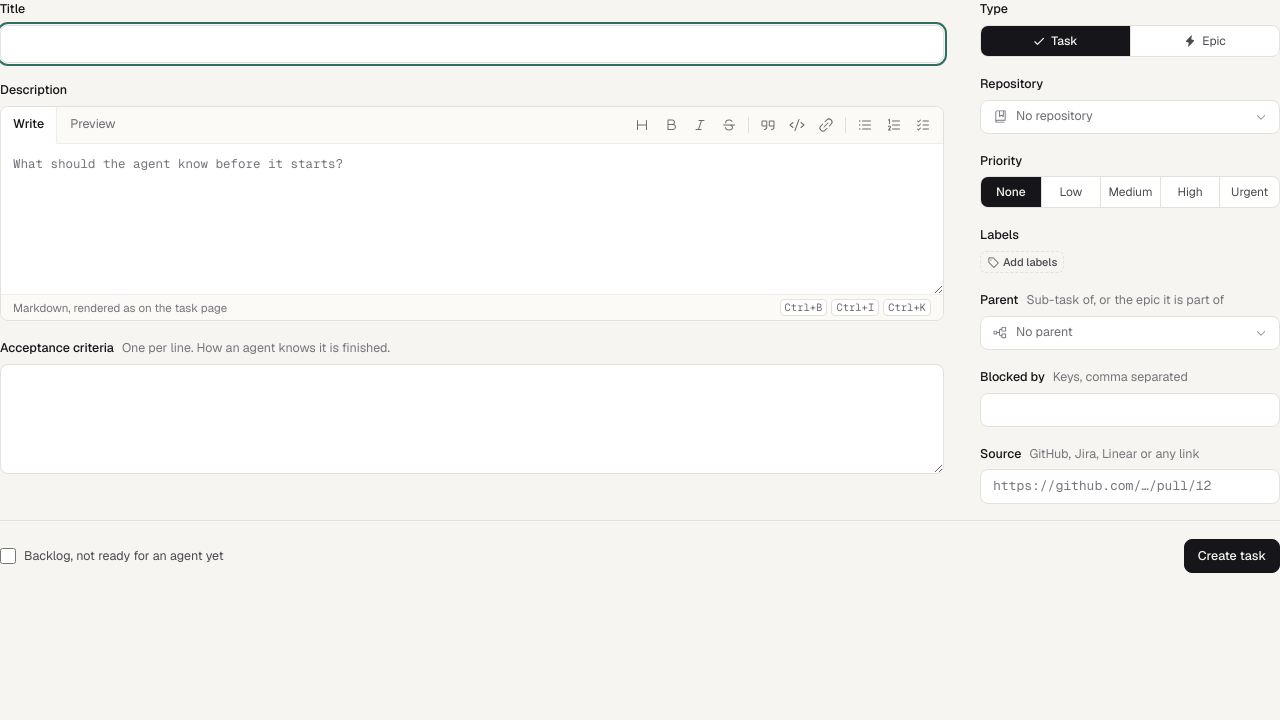
Test: NewTaskForm › picks the repository from the watched ones, or none
This screenshot has width=1280, height=720.
Click the button "No repository": x=1054, y=116 [980, 100, 1279, 134]
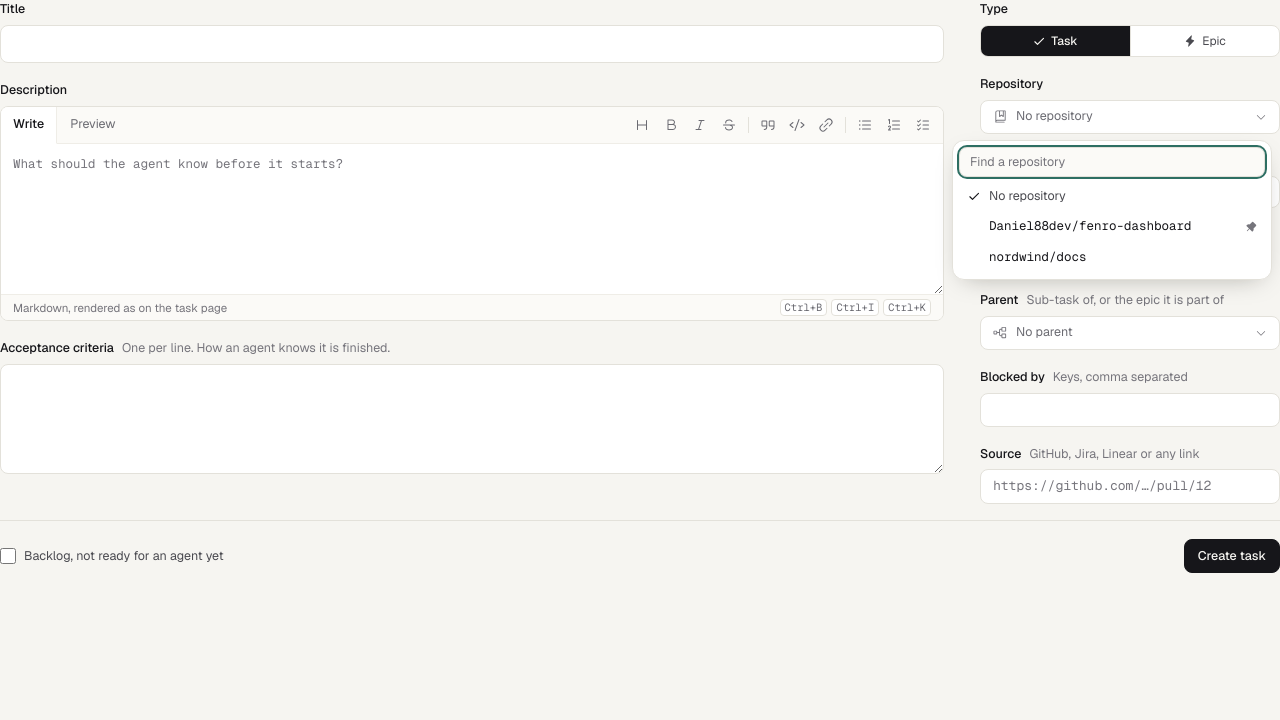
In the field labelled "Find a repository": x=1112, y=162 [959, 146, 1265, 176], type "docs"
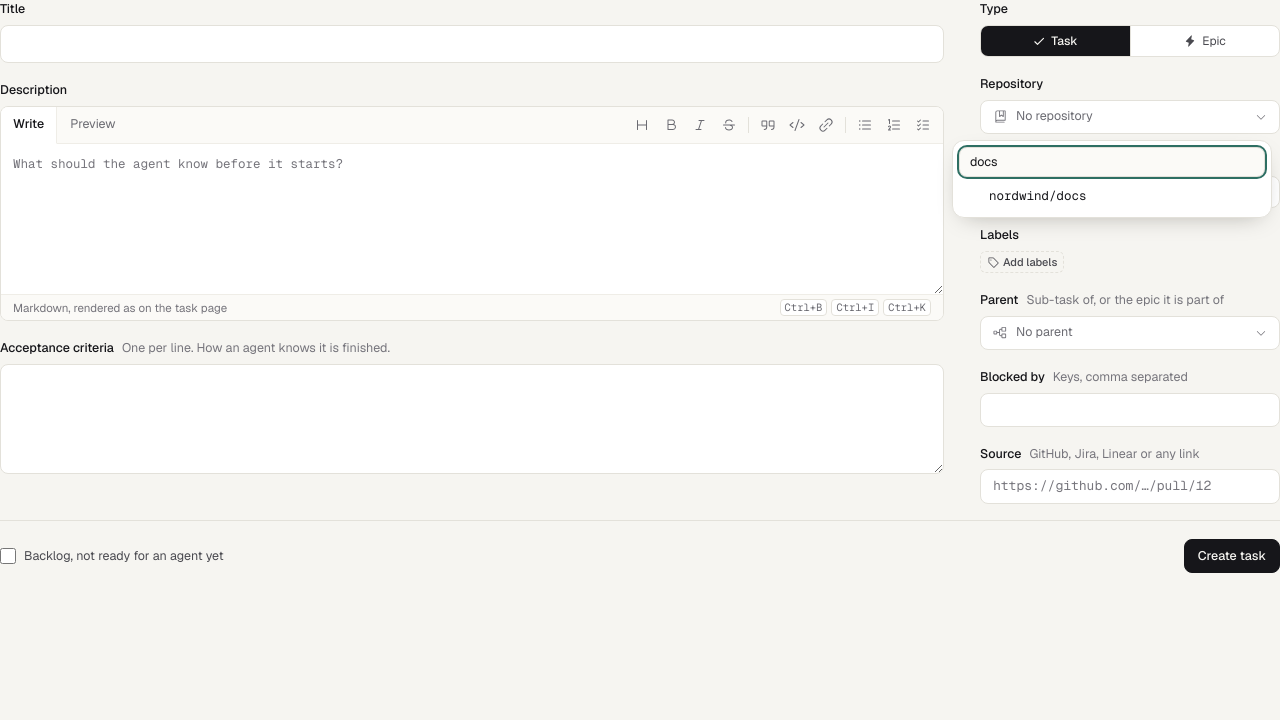
Press Enter in the field named "Find a repository", box [959, 146, 1265, 176]
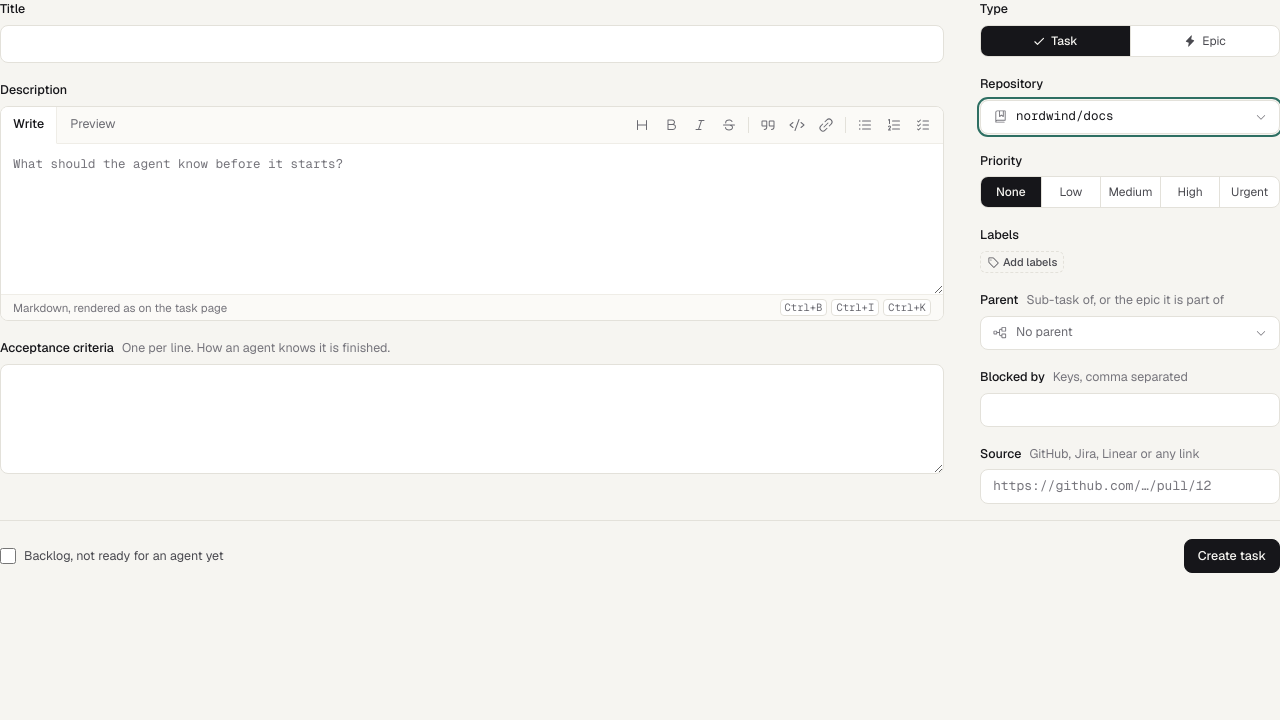
Now the button named "Repository" reads "nordwind/docs", box [980, 100, 1279, 134]
In the field labelled "Title": x=472, y=44 [0, 25, 944, 63], type "Retry webhooks"
Click the button "Create task": x=1232, y=556 [1184, 539, 1279, 573]
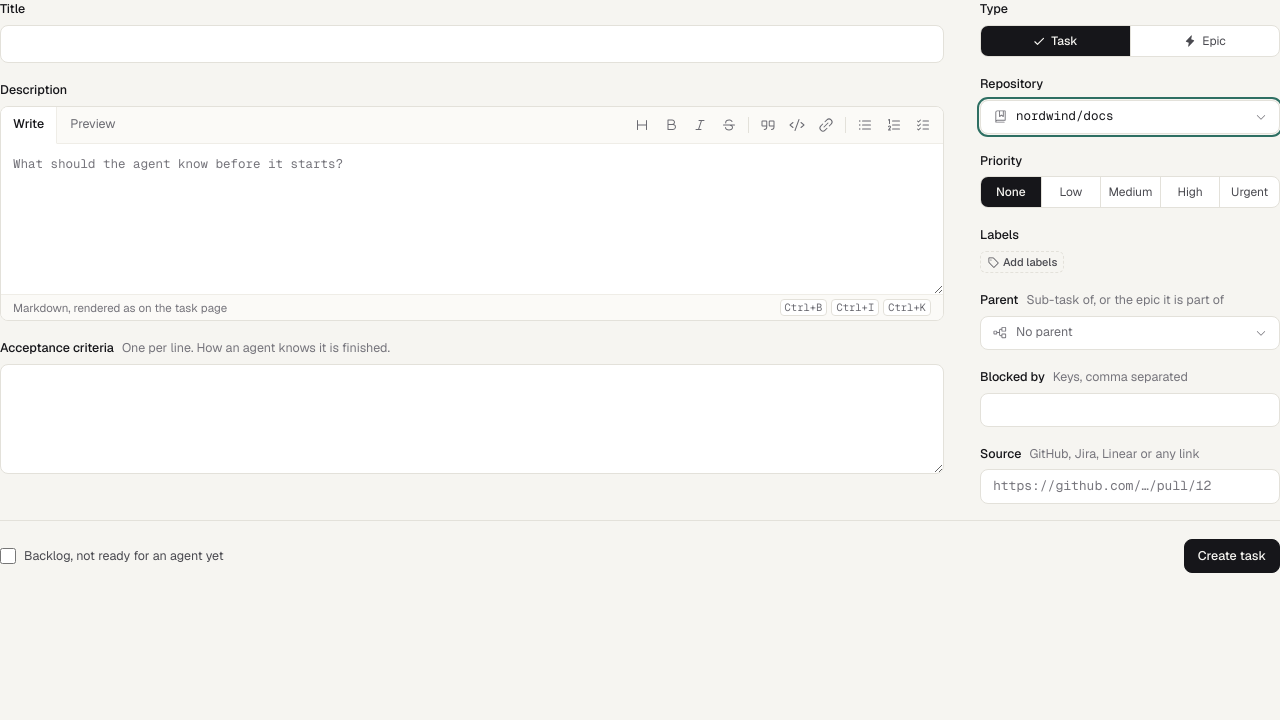
Now the text "nordwind/docs" is shown, box [1016, 107, 1114, 124]
Click the button named "Repository": x=1065, y=116 [980, 100, 1279, 134]
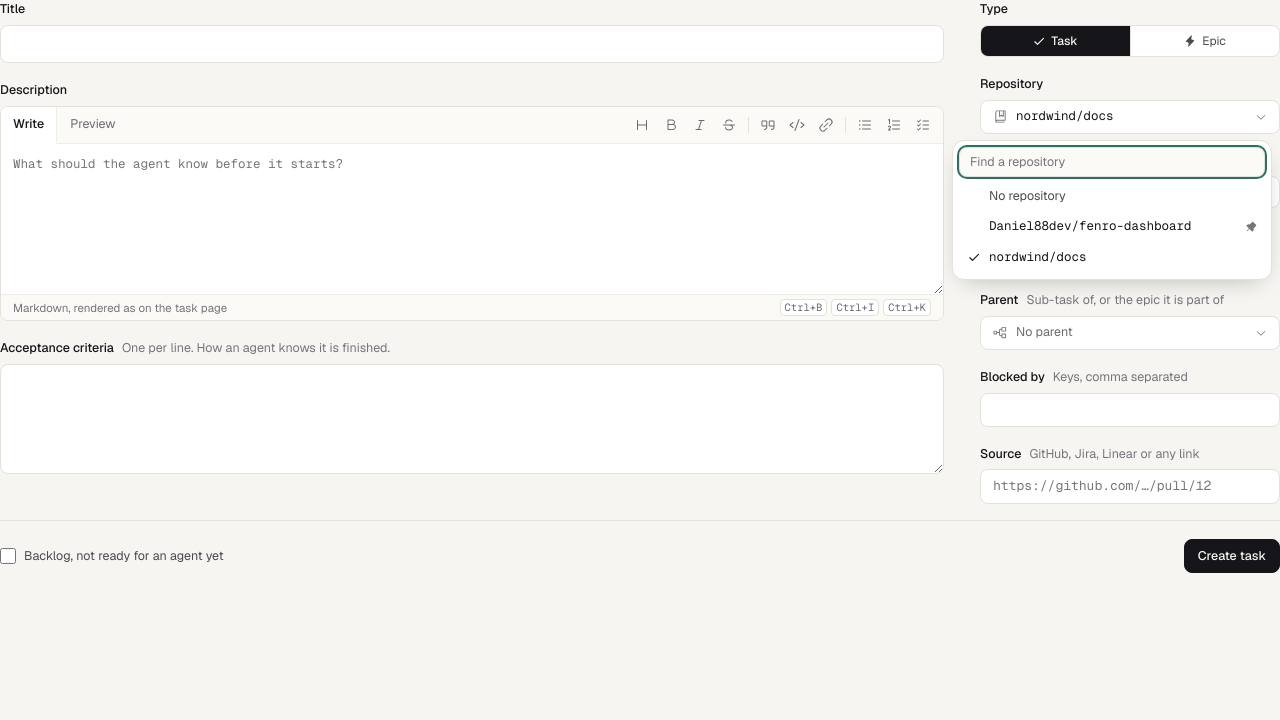
Click the button "No repository": x=1027, y=195 [959, 180, 1265, 211]
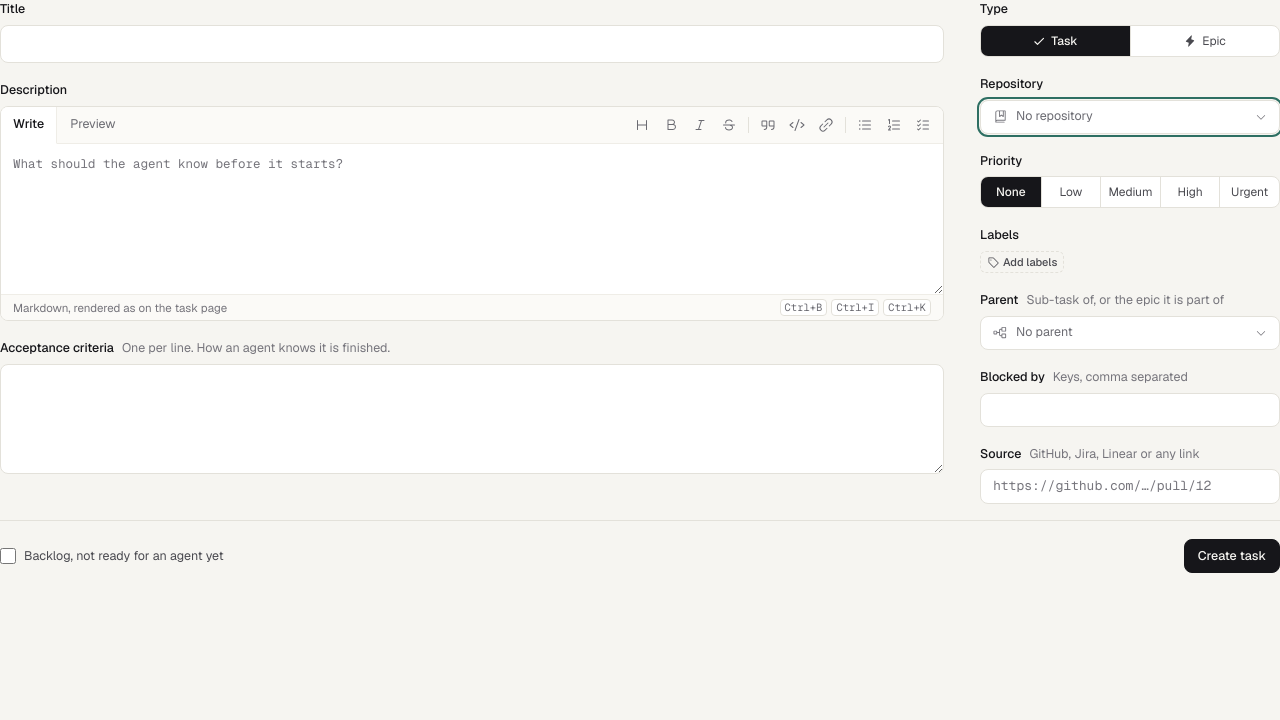
Expected: the element named "repository" is empty, [980, 100, 1279, 134]
Now the button "No repository" is shown, box [980, 100, 1279, 134]
